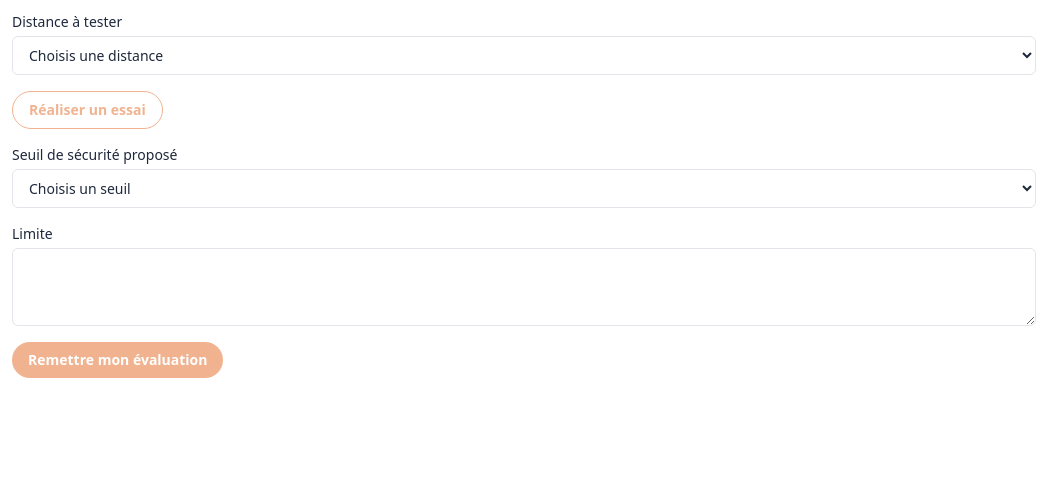
Test: SommativeSensorProtocol › affiche les observations essai par essai, sans correction
The image size is (1048, 478).
Select "1 m" in the dropdown labelled "Distance à tester" at (524, 56), box [12,36,1036,75]
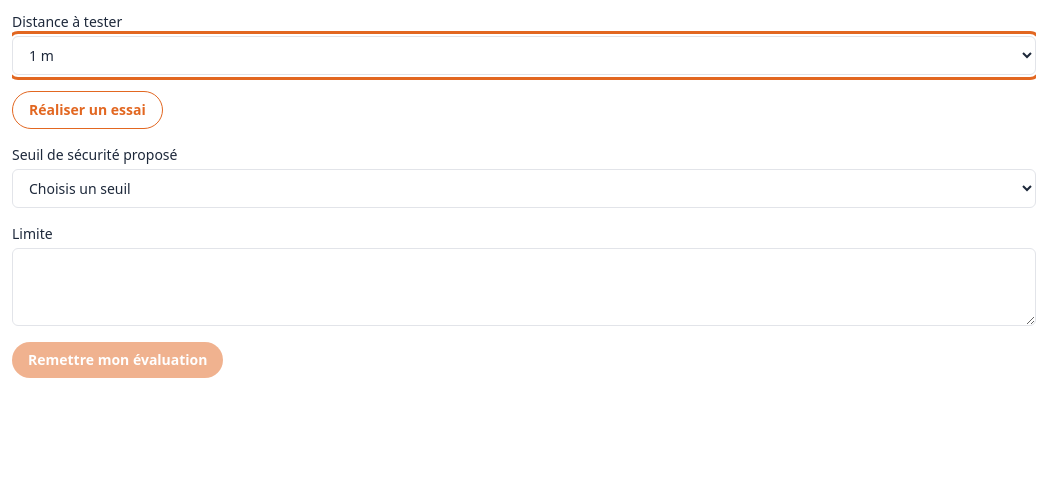
Click the button "Réaliser un essai".
click(87, 110)  # box [12,91,163,129]
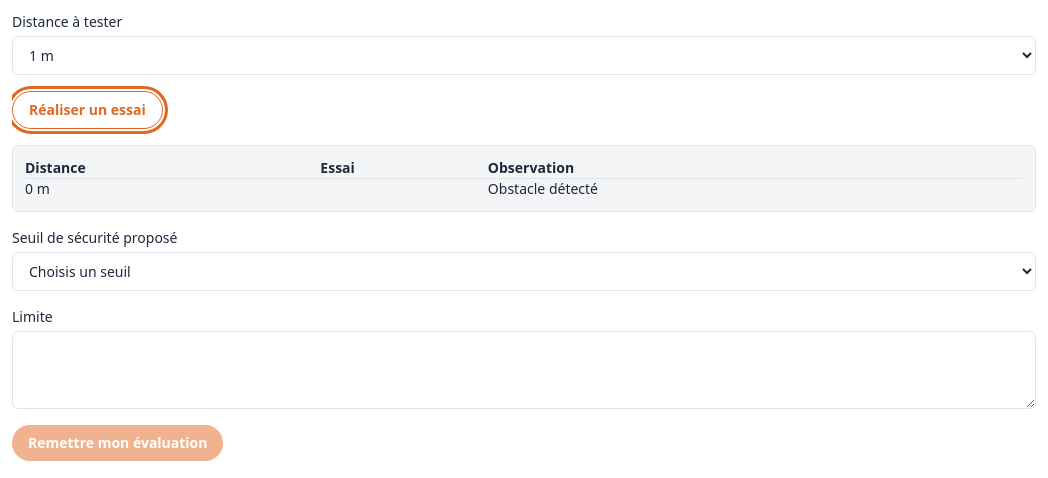
Result: the text "Obstacle détecté" is shown at [488,178,1023,199]
